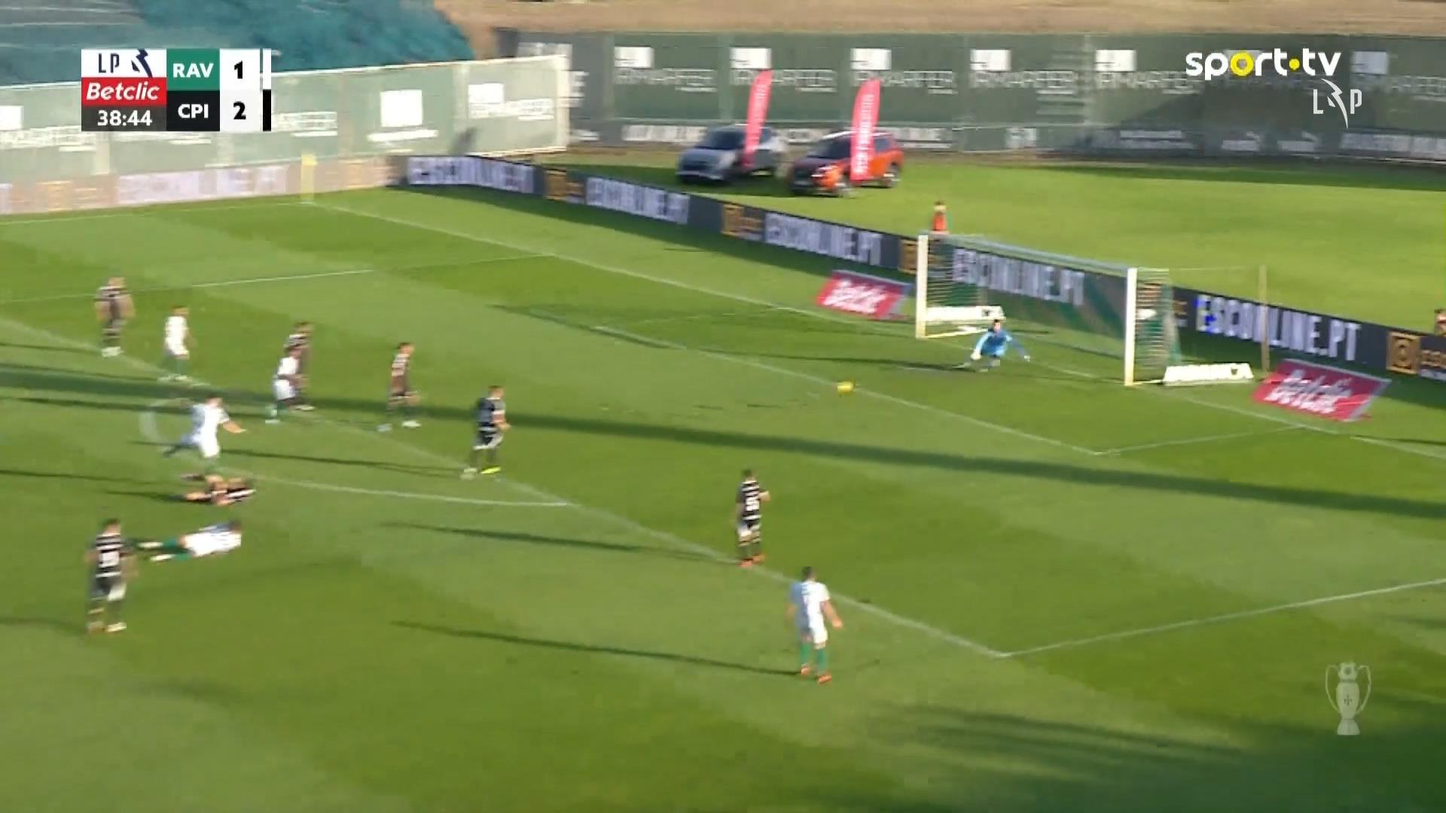ball: (836, 380, 853, 392)
goalkeeper: (967, 318, 1031, 371)
player: (784, 565, 843, 684), (81, 516, 139, 634), (160, 392, 247, 461), (460, 383, 511, 480), (138, 518, 243, 563), (264, 337, 316, 424), (732, 467, 770, 568), (93, 275, 136, 358), (159, 303, 196, 379), (178, 471, 255, 506), (384, 340, 420, 413), (282, 320, 314, 396)
